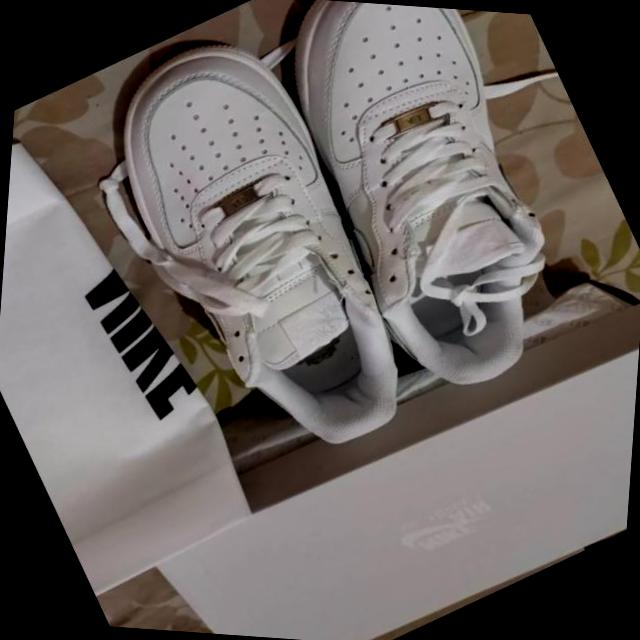nike_fake_airforce: (51, 2, 469, 500), (210, 0, 632, 430)
